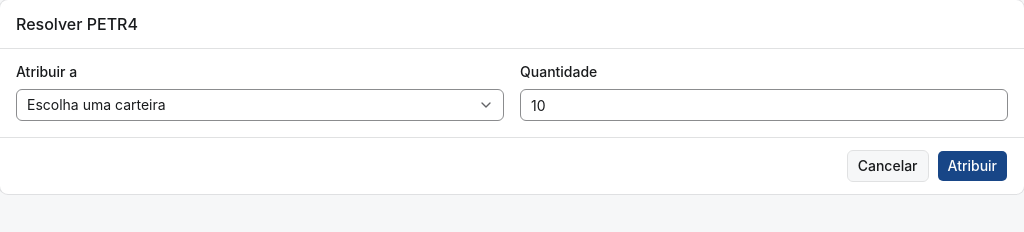
AllocateForm — Cancelar after a refusal › restores the loaded choice and quantity
Select "Aposentadoria" in the dropdown labelled "Atribuir a": (260, 105) x1=16 y1=89 x2=504 y2=121
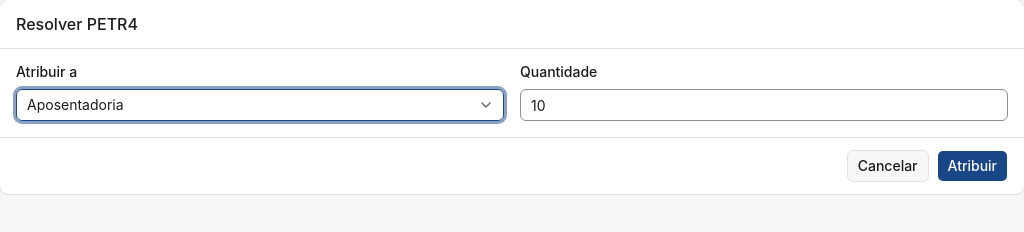
Replace the text in the field labelled "Quantidade" with "-1": (764, 105) x1=520 y1=89 x2=1008 y2=121
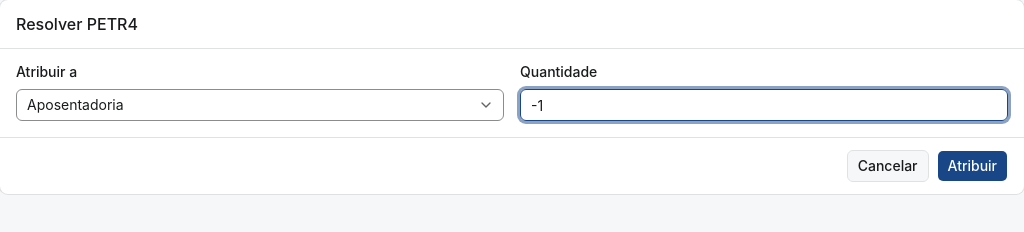
Click the button "Atribuir": (972, 166) x1=936 y1=150 x2=1008 y2=182
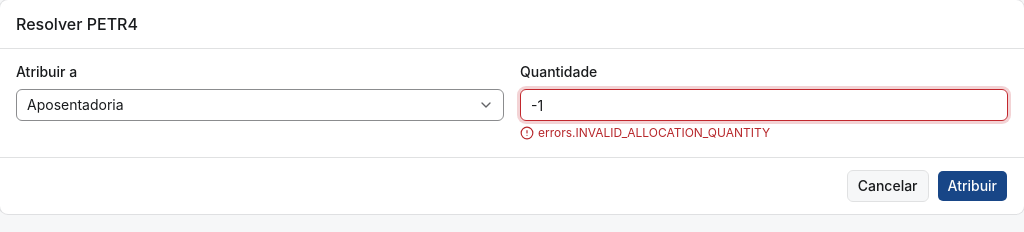
expect the dropdown labelled "Atribuir a" shows "Aposentadoria": met, box x1=16 y1=89 x2=504 y2=121
Note: …and Cancelar puts back what was loaded.
Click the button "Cancelar": (888, 186) x1=847 y1=170 x2=928 y2=202
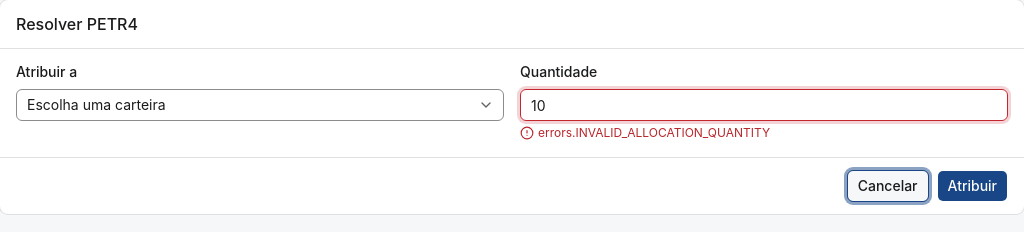
expect the field labelled "Quantidade" holds "10": met, box x1=520 y1=89 x2=1008 y2=121
expect the dropdown labelled "Atribuir a" shows "Escolha uma carteira": met, box x1=16 y1=89 x2=504 y2=121
